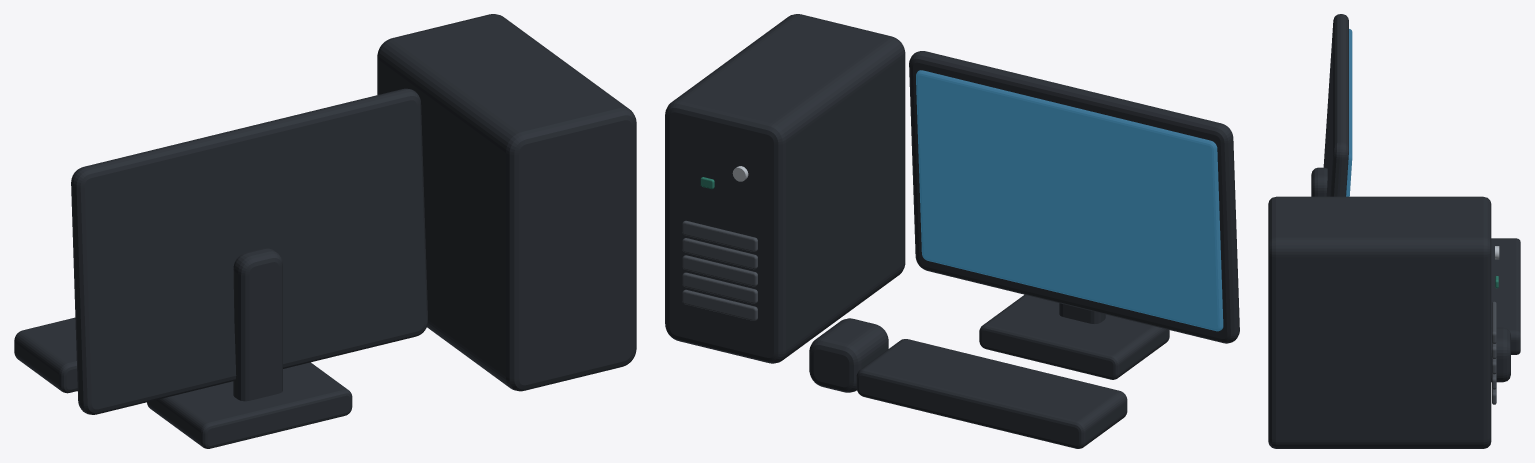
The model's file is workstation_pc.glb.
3 renders of one model, left to right at view 1: azimuth 30°, elevation 25°; view 2: azimuth 150°, elevation 25°; view 3: azimuth 270°, elevation 25°, orthographic. The views are drawn at different scales.
Visible parts, largest first — view 1: workstation_pc_refined; view 2: workstation_pc_refined; view 3: workstation_pc_refined.
Boxes of the visible parts, x1=… form: workstation_pc_refined: x1=14, y1=14, x2=636, y2=448; workstation_pc_refined: x1=665, y1=14, x2=1239, y2=448; workstation_pc_refined: x1=1268, y1=14, x2=1520, y2=448.
Bounding box in the file's own units: 0.881 × 0.4668 × 0.4525.
